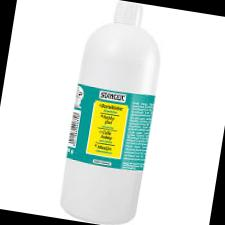plastic: (28, 0, 201, 225)
